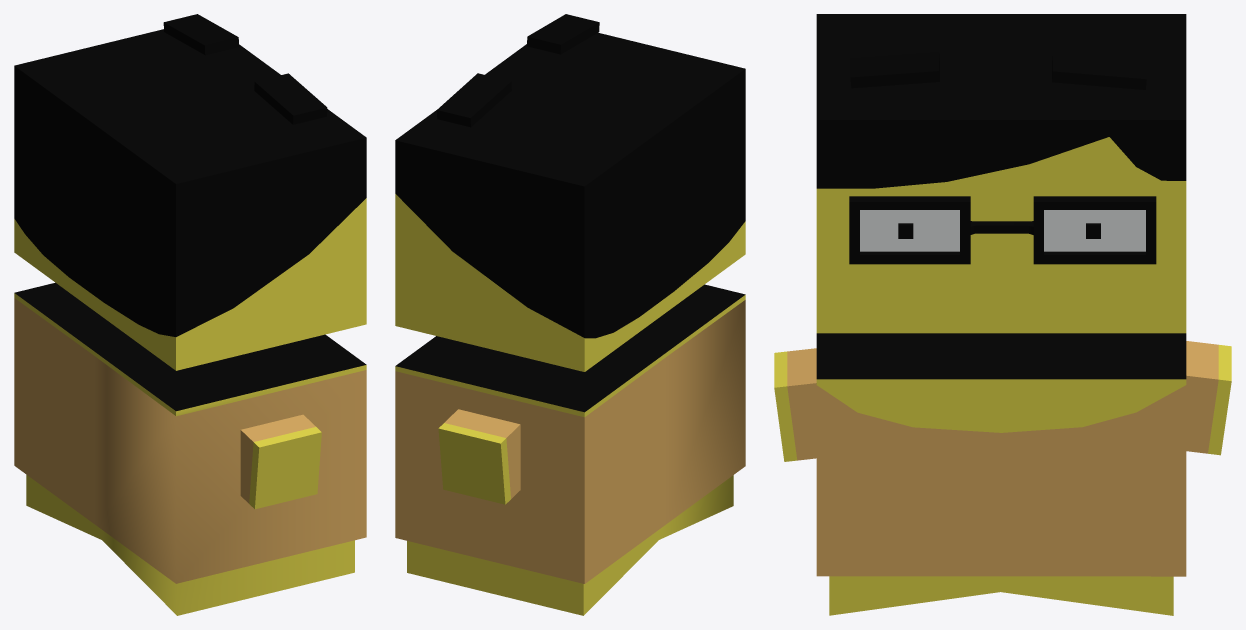
File: FinalSteve.fbx
The picture shows the model from 3 angles, left to right: view 1: azimuth 30°, elevation 25°; view 2: azimuth 150°, elevation 25°; view 3: azimuth 270°, elevation 25°; orthographic projection. The views are drawn at different scales.
Visible parts, largest first — view 1: Head, Body, L_foot, L_Arm, polySurface12, polySurface13, R_foot; view 2: Head, Body, R_foot, R_Arm, polySurface13, polySurface12, L_foot; view 3: Head, Body, Glasses, R_foot, L_foot, R_Arm, L_Arm, polySurface13, polySurface12.
Boxes of the visible parts, x1,y1,x2,y2 form: Head: [14, 29, 366, 370]; Body: [14, 282, 366, 583]; L_foot: [101, 530, 354, 615]; L_Arm: [240, 414, 321, 509]; polySurface12: [254, 73, 327, 124]; polySurface13: [163, 14, 238, 55]; R_foot: [26, 474, 101, 539]; Head: [395, 32, 745, 371]; Body: [395, 284, 745, 583]; R_foot: [407, 530, 658, 615]; R_Arm: [438, 409, 520, 504]; polySurface13: [437, 73, 511, 127]; polySurface12: [527, 14, 599, 54]; L_foot: [658, 475, 733, 539]; Head: [816, 14, 1186, 333]; Body: [816, 333, 1186, 576]; Glasses: [849, 196, 1156, 264]; R_foot: [1001, 576, 1173, 615]; L_foot: [829, 576, 1001, 615]; R_Arm: [1186, 341, 1231, 455]; L_Arm: [774, 348, 816, 461]; polySurface13: [1052, 52, 1146, 89]; polySurface12: [850, 52, 939, 88].
Size of the model in its own units: 0.7159 by 1.6 by 1.24.
